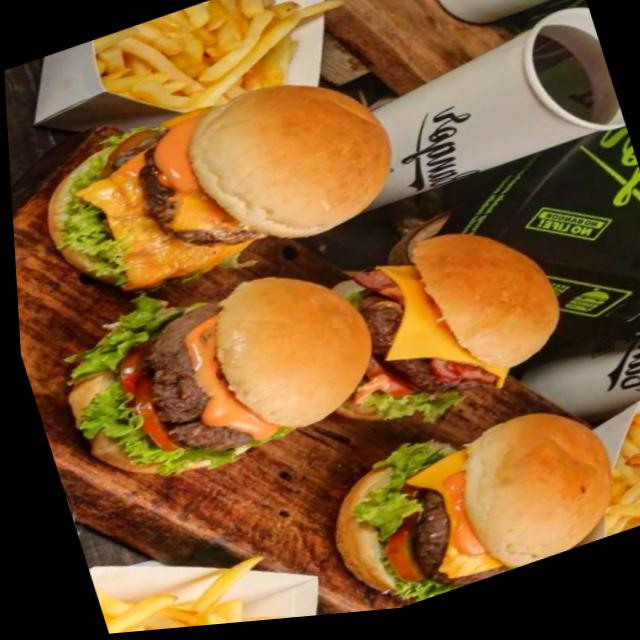burger: (18, 56, 408, 327), (37, 249, 392, 513), (297, 389, 626, 621), (279, 210, 574, 450)
